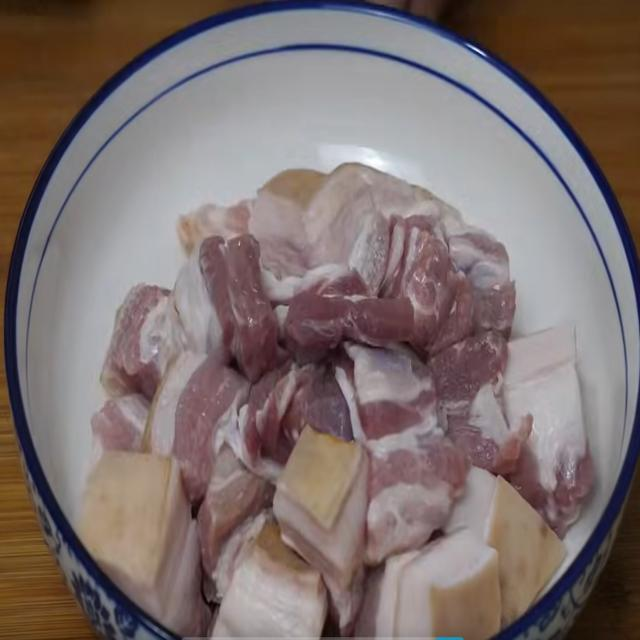pork belly: (180, 168, 524, 342), (332, 337, 465, 537), (75, 446, 212, 638), (275, 426, 369, 632), (504, 330, 592, 533), (349, 530, 503, 640), (174, 233, 276, 380), (226, 358, 345, 483), (146, 367, 248, 503), (213, 526, 325, 637), (102, 278, 184, 399)
